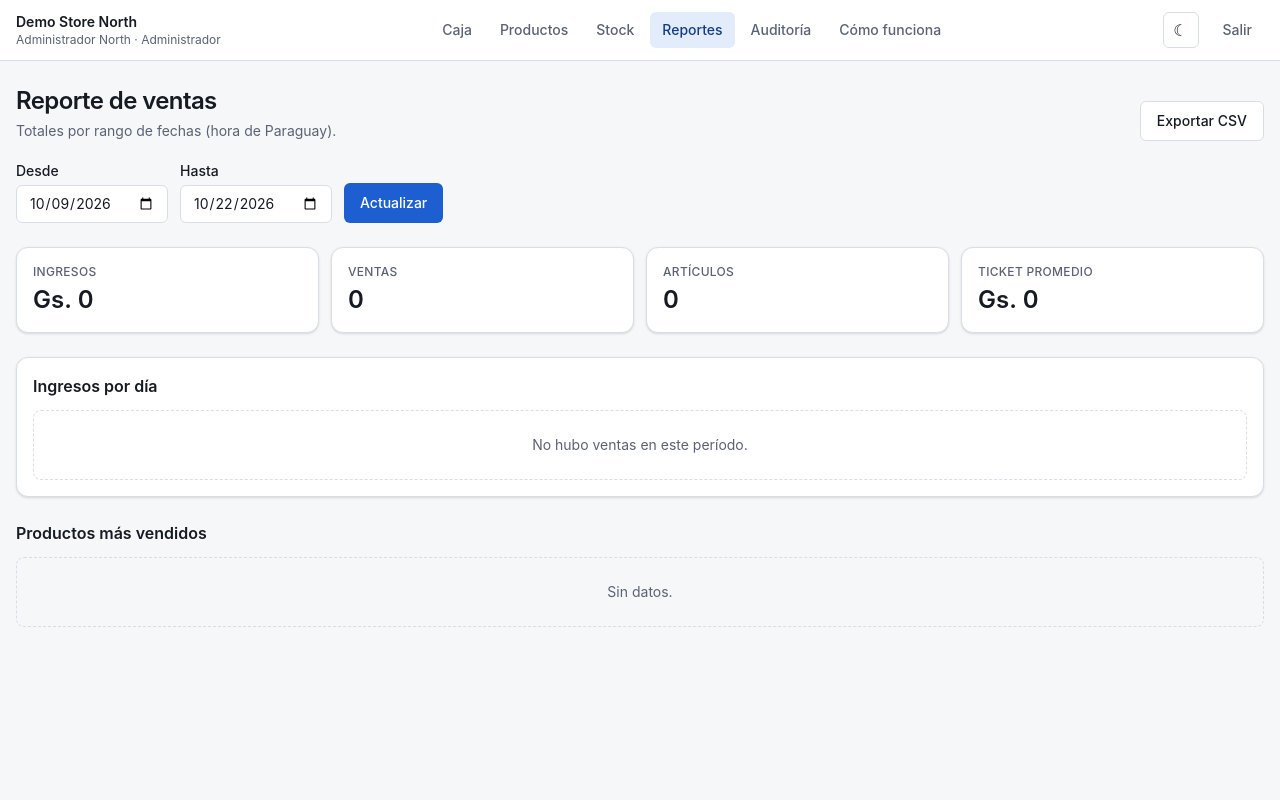
it: reports page › shows an empty state for a period without sales and validates the form
expect the text "No hubo ventas en este período." is shown: met, box [33,410,1247,480]
In the date field labelled "Hasta": coordinates (256, 204) [180,185,332,223], type "2000-01-01"
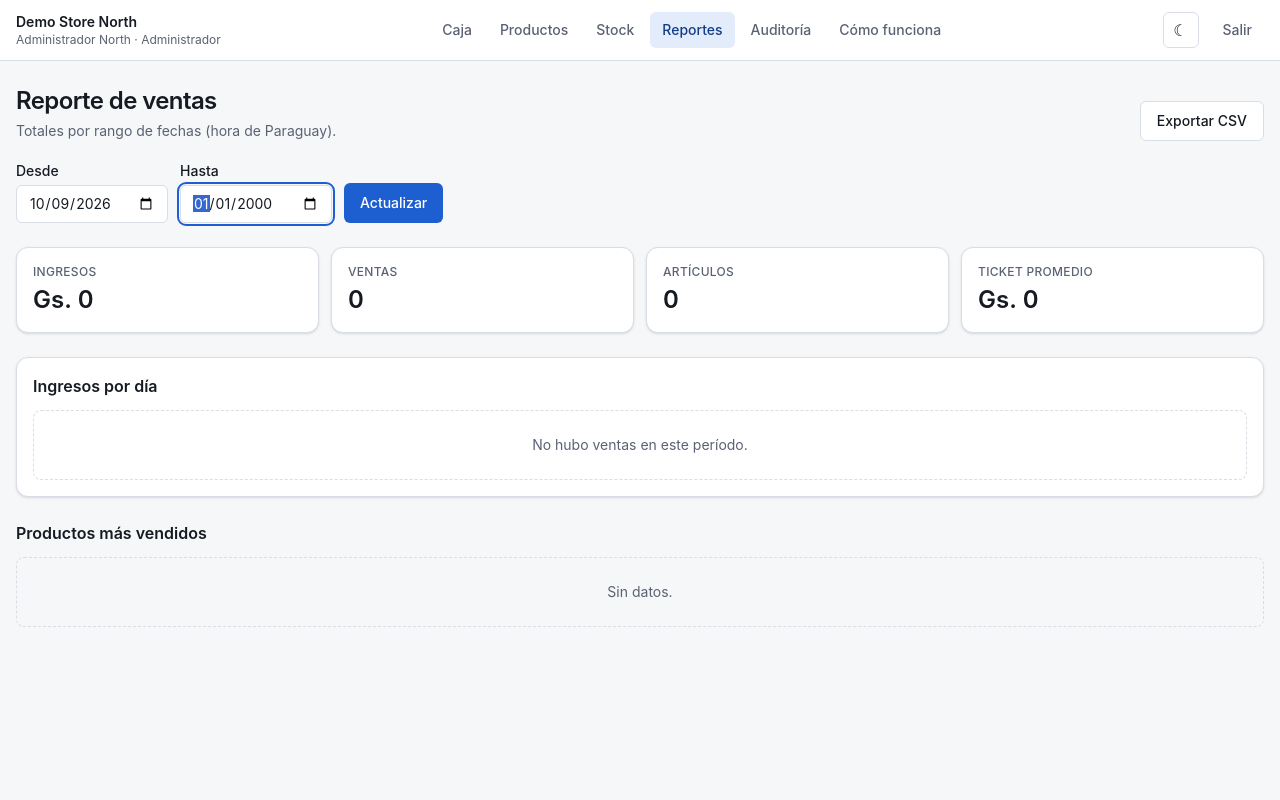
Click the button "Actualizar": coordinates (394, 203) [344,183,443,223]
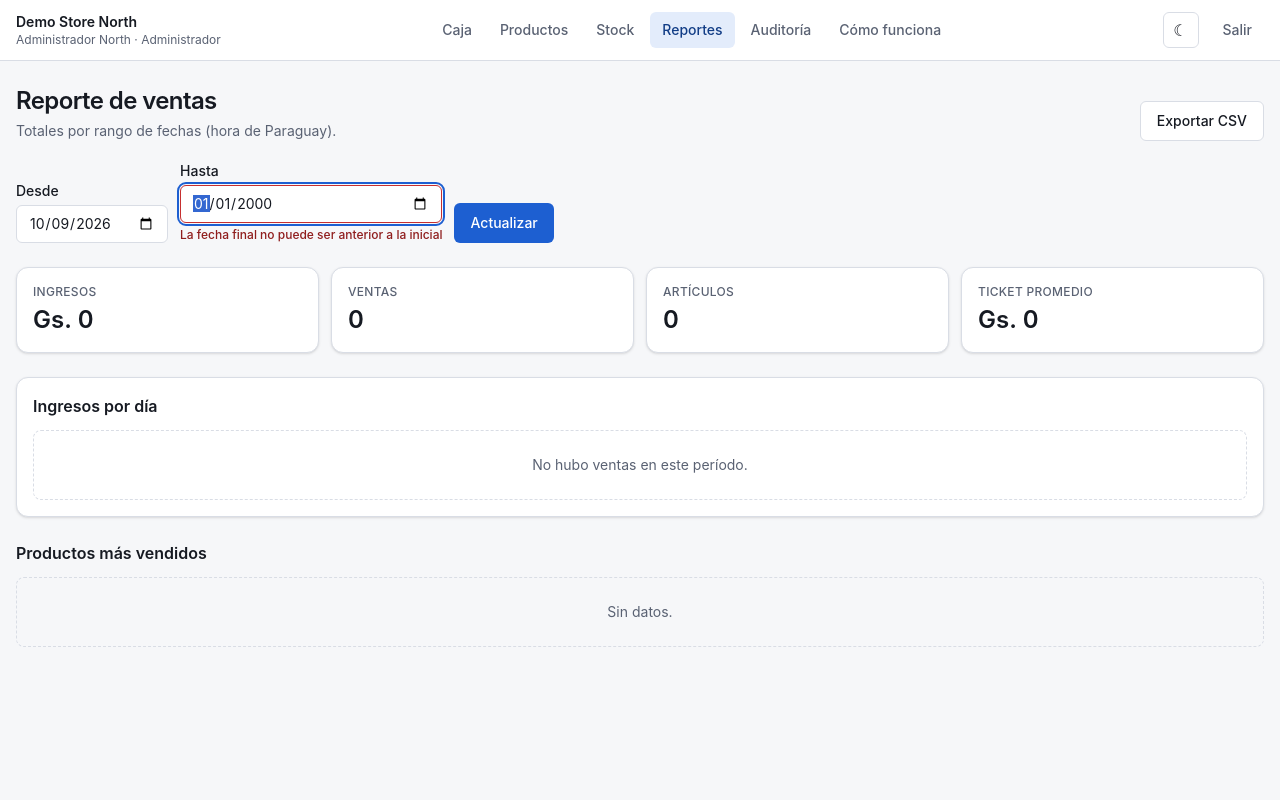
expect the text "La fecha final no puede ser anterior a la inicial" is shown: met, box [180,227,442,243]
